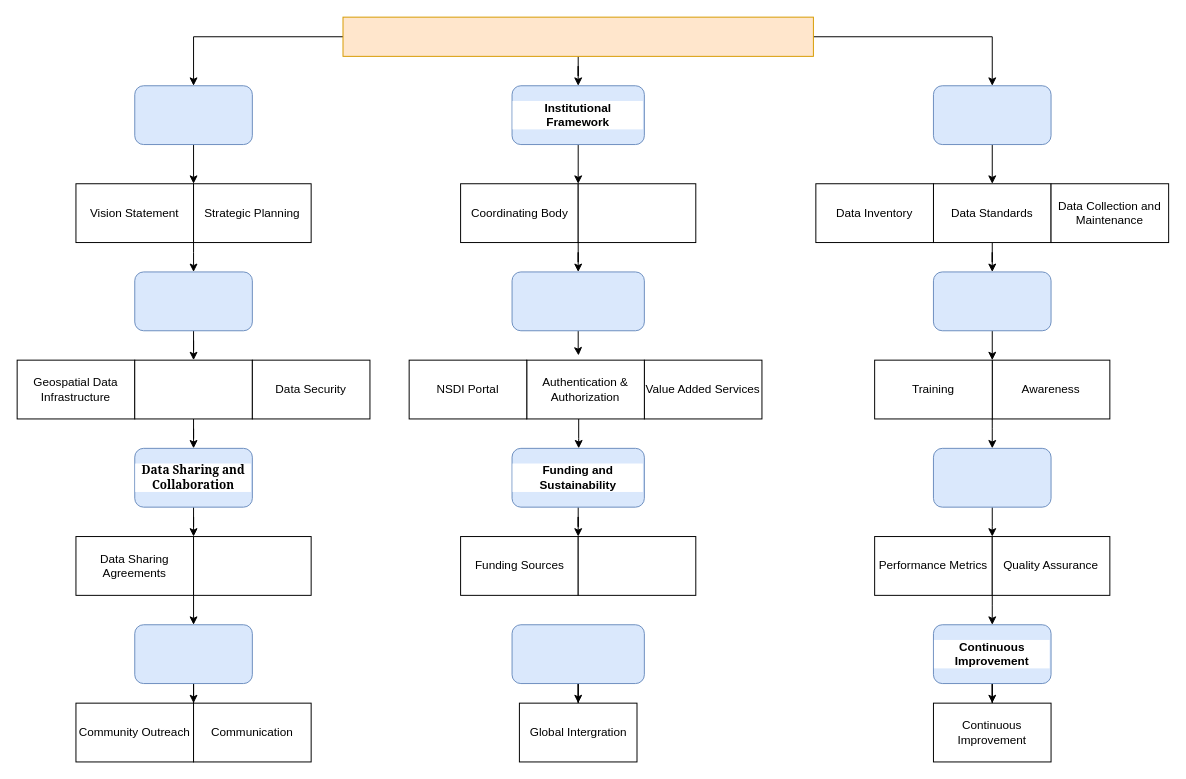
Image size: 1186x779. Some labels were removed from this diagram. Each missing label, with the centre of its shape:
"Capacity Building" goes at point (991, 301).
"Collaboration" goes at point (252, 565).
"Data Access and Services" goes at point (577, 301).
"Data Management" goes at point (991, 115).
"International Collaboration" goes at point (577, 654).
"Interoperability" goes at point (193, 389).
"Legal and Regulatory Framework" goes at point (636, 213).
"Monitoring and Evaluation" goes at point (991, 477).
"NSDI CONCEPTUAL FRAMEWORK" goes at point (577, 36).
"Public Engagement" goes at point (193, 654).
"Revenue Generation" goes at point (636, 565).
"Technology Infrastructure" goes at point (193, 301).
"Vision and Strategy" goes at point (193, 115).
